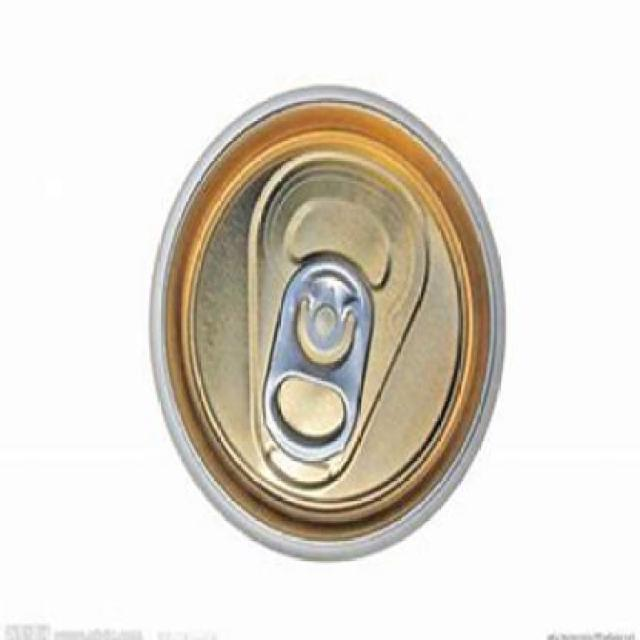Metal: (147, 84, 507, 563)
